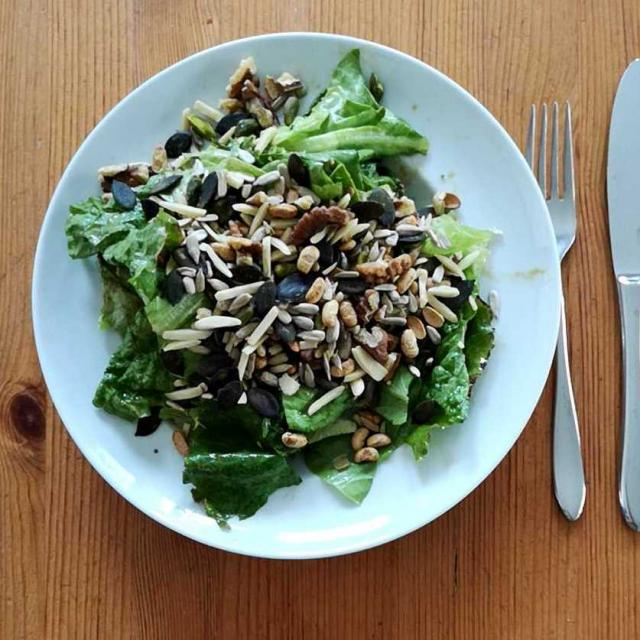salad-leaf-salad-green: (66, 58, 498, 507)
